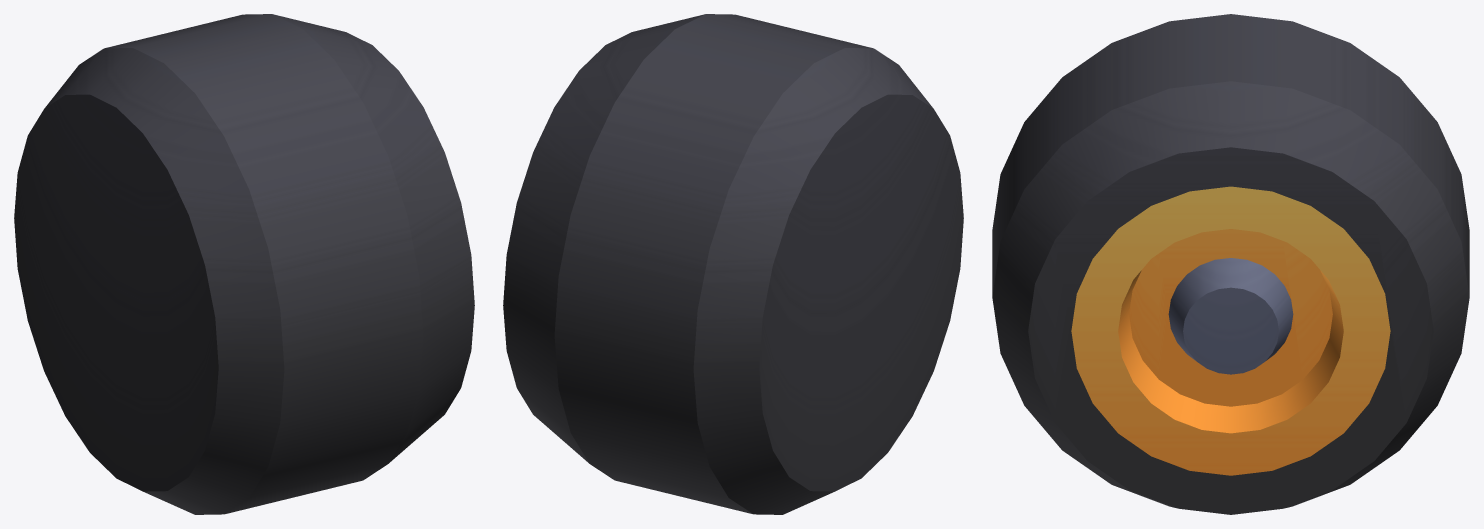
The picture shows the model from 3 angles, left to right: view 1: azimuth 30°, elevation 25°; view 2: azimuth 150°, elevation 25°; view 3: azimuth 270°, elevation 25°; orthographic projection.
Parts seen in each view (by area): view 1: wheel-tractor-back; view 2: wheel-tractor-back; view 3: wheel-tractor-back.
Part boxes in pixels (x1,y1,x2,y2): wheel-tractor-back: [14, 14, 474, 514]; wheel-tractor-back: [503, 14, 963, 514]; wheel-tractor-back: [992, 14, 1469, 514].
Bounding box in the file's own units: 0.5376 × 0.8752 × 0.8752.
1 material, 1 textured.
